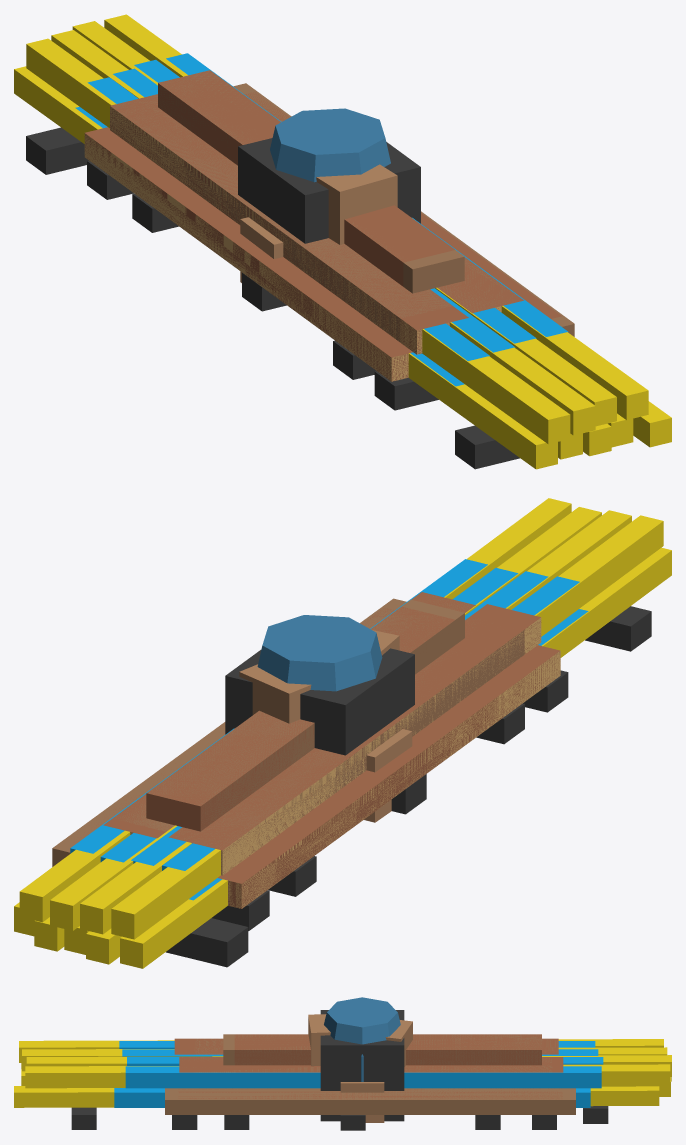
File: Construction-Materials.glb
3 renders of one model, top to bottom at view 1: azimuth 30°, elevation 25°; view 2: azimuth 150°, elevation 25°; view 3: azimuth 270°, elevation 25°, orthographic. The views are drawn at different scales.
Visible parts, largest first — view 1: Planks Wood V2, Planks Yellow, Planks Wood V3, Planks Wood V1, Planks Blue, Box Black, Barrel, Box Stack Brown; view 2: Planks Yellow, Planks Wood V2, Planks Wood V3, Planks Wood V1, Planks Blue, Box Black, Barrel, Box Stack Brown; view 3: Planks Wood V3, Planks Yellow, Planks Wood V2, Planks Blue, Box Black, Barrel, Box Stack Brown, Planks Wood V1.
Part boxes in pixels (box(x1,y1,x2,y2)): Planks Wood V2: box(84, 70, 561, 381); Planks Yellow: box(14, 14, 671, 469); Planks Wood V3: box(110, 70, 574, 342); Planks Wood V1: box(84, 106, 501, 381); Planks Blue: box(75, 53, 568, 410); Box Black: box(238, 138, 420, 243); Barrel: box(270, 108, 390, 182); Box Stack Brown: box(240, 164, 397, 282); Planks Yellow: box(14, 498, 671, 968); Planks Wood V2: box(80, 592, 560, 908); Planks Wood V3: box(52, 593, 524, 873); Planks Wood V1: box(130, 617, 560, 908); Planks Blue: box(70, 559, 588, 930); Box Black: box(225, 648, 414, 755); Barrel: box(257, 615, 382, 691); Box Stack Brown: box(239, 630, 412, 822); Planks Wood V3: box(165, 1034, 575, 1114); Planks Yellow: box(14, 1039, 671, 1130); Planks Wood V2: box(174, 1034, 563, 1128); Planks Blue: box(114, 1041, 603, 1129); Box Black: box(320, 1010, 404, 1121); Barrel: box(324, 997, 400, 1081); Box Stack Brown: box(308, 1014, 412, 1122); Planks Wood V1: box(224, 1115, 500, 1129).
Size of the model in its own units: 1.69 by 1.21 by 7.86.
Materials: 1 (1 with a texture image).
